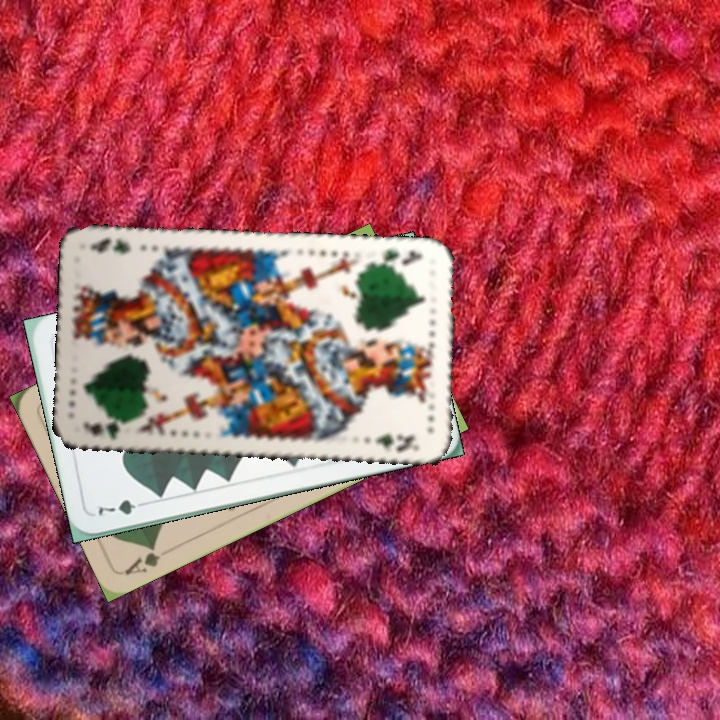G7: (94, 495, 151, 519)
GA: (120, 540, 164, 578)
GK: (79, 417, 134, 443), (374, 245, 426, 270)
